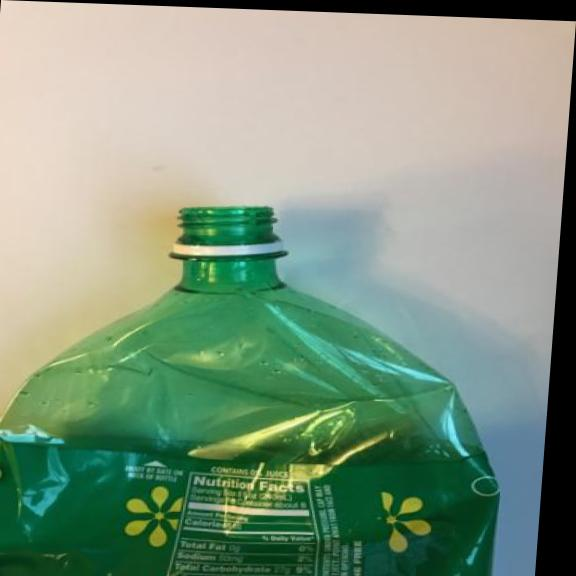Plastik: (0, 189, 528, 576)
